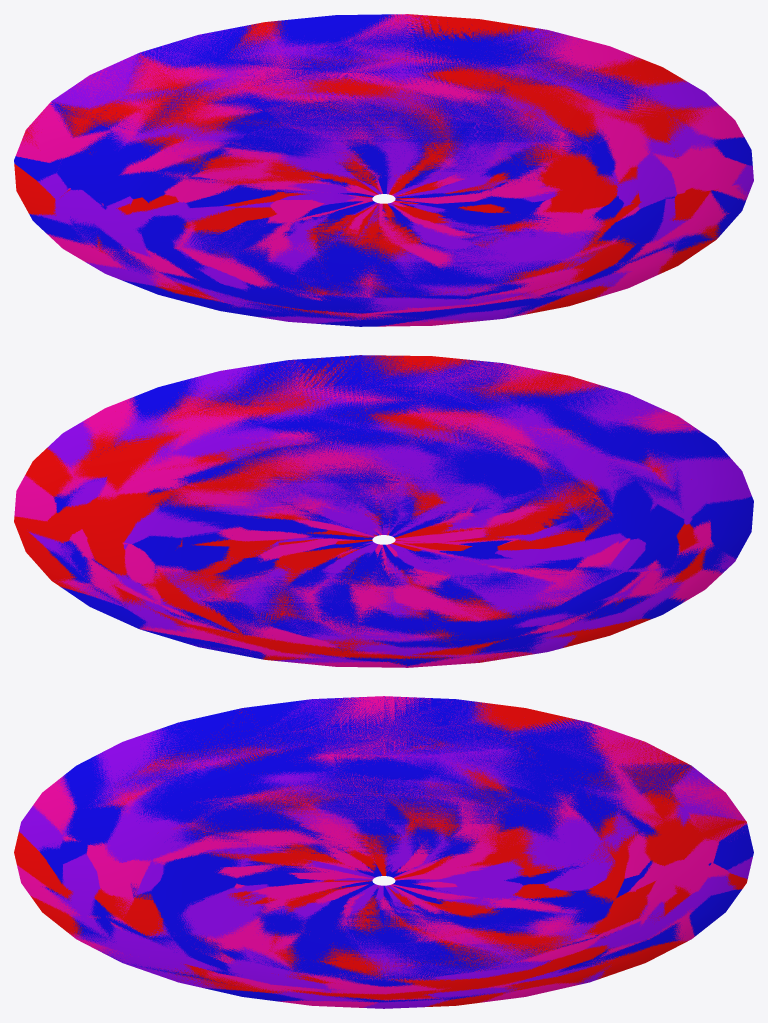
The model's file is p_mesh_plasmadrill_diameter_glow02_pose0.fbx.
The picture shows the model from 3 angles, top to bottom: view 1: azimuth 30°, elevation 25°; view 2: azimuth 150°, elevation 25°; view 3: azimuth 270°, elevation 25°; orthographic projection.
Parts seen in each view (by area): view 1: plasmadrill_diameter_glow02_pose0; view 2: plasmadrill_diameter_glow02_pose0; view 3: plasmadrill_diameter_glow02_pose0.
Boxes of the visible parts, left/top/right/bottom form: plasmadrill_diameter_glow02_pose0: left=14, top=14, right=753, bottom=326; plasmadrill_diameter_glow02_pose0: left=14, top=355, right=753, bottom=667; plasmadrill_diameter_glow02_pose0: left=14, top=696, right=753, bottom=1008.
Bounding box in the file's own units: 12.89 × 0.545 × 12.89.
